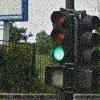traffic lights: (48, 8, 76, 65), (78, 8, 100, 69), (43, 64, 69, 90), (72, 67, 98, 92)
